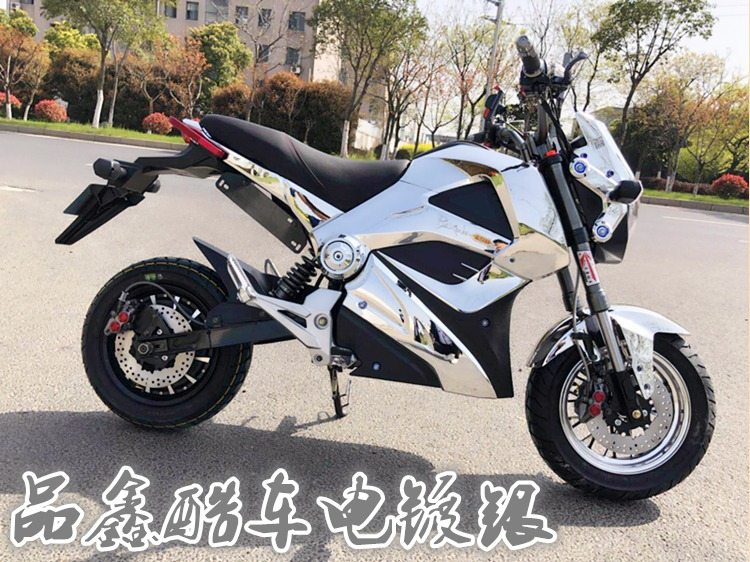电动车: (51, 32, 723, 511)
